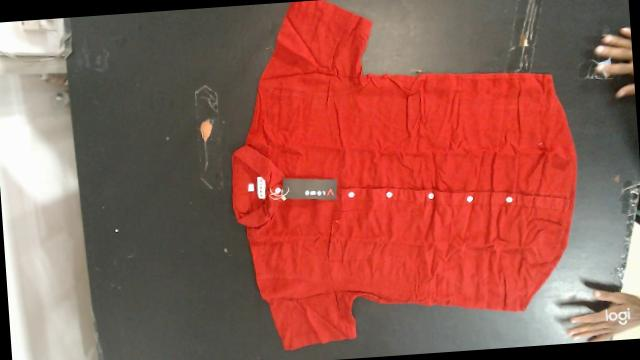new-garment: (232, 0, 576, 349)
